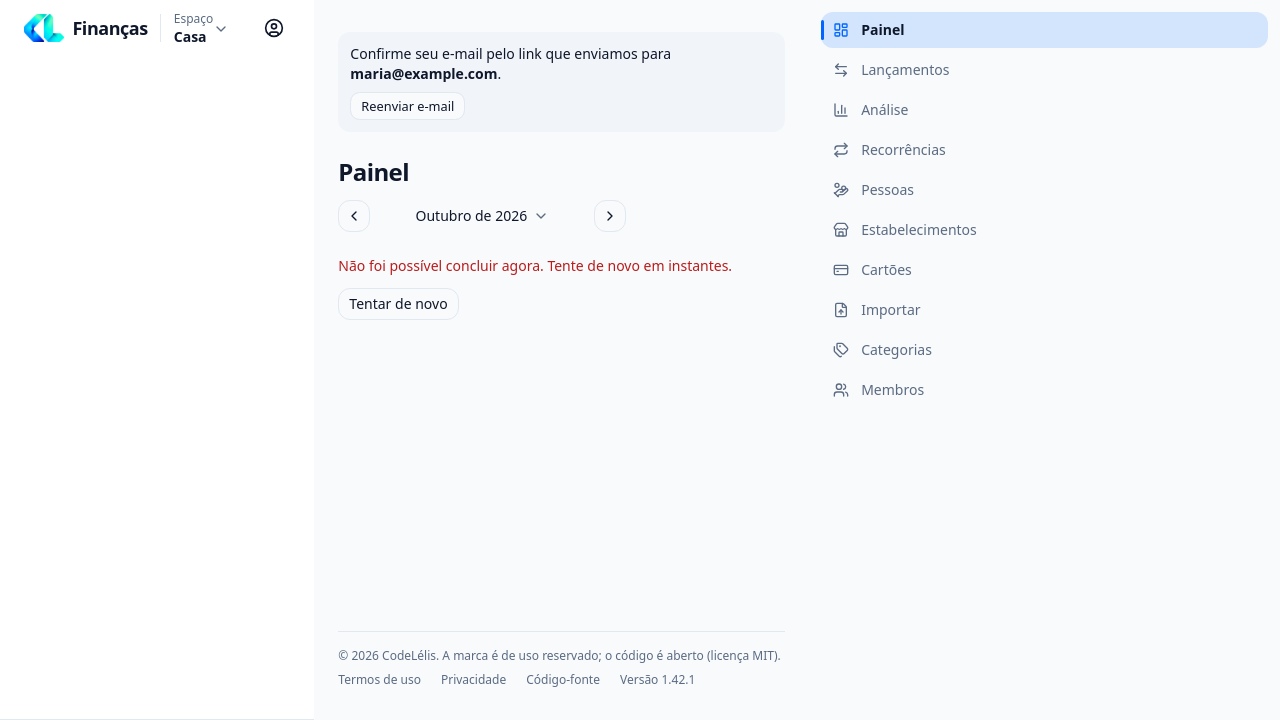
Test case: WorkspaceSwitcher › lists the workspaces, the current one checked
The width and height of the screenshot is (1280, 720).
Click the button named "Trocar de espaço: Espaço Casa" at (202, 29), box [165,7,238,51]
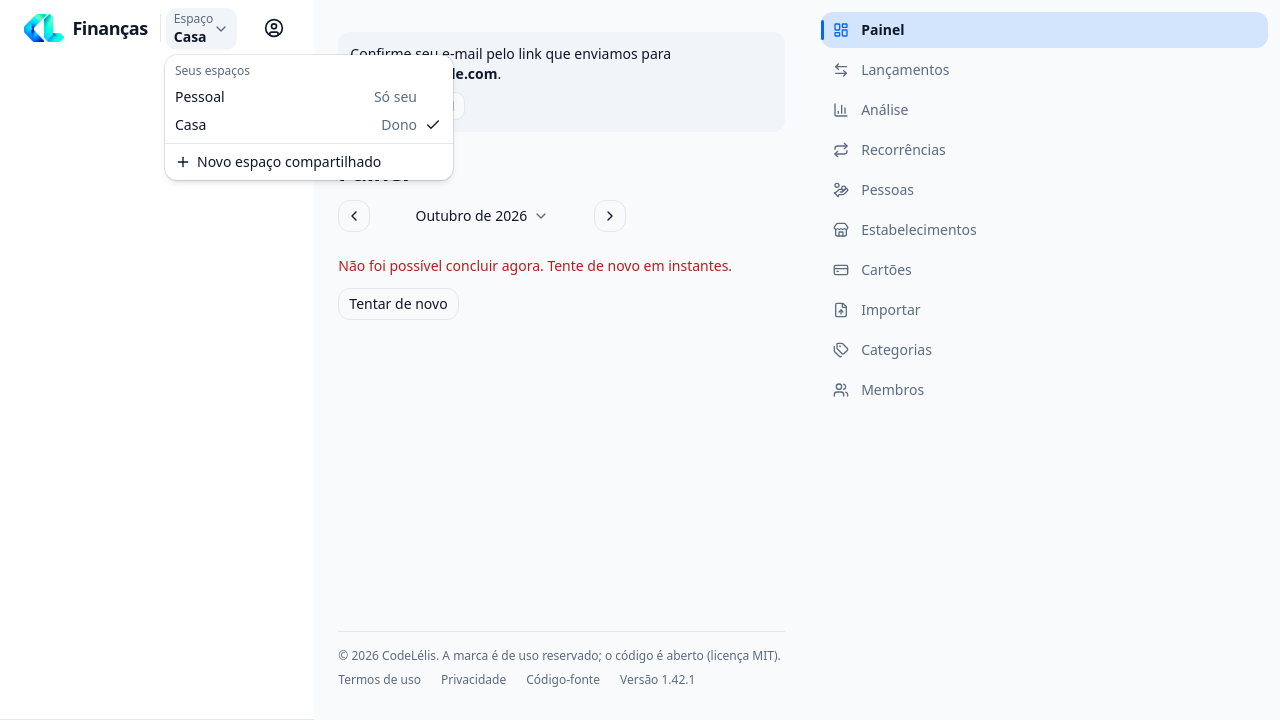
Expected: the menu item "Pessoal Só seu" is not checked, [169,83,449,111]
Expected: the menu item "Casa Dono" is checked, [169,111,449,139]
Expected: the menu item "Pessoal Só seu" is shown, [169,83,449,111]
